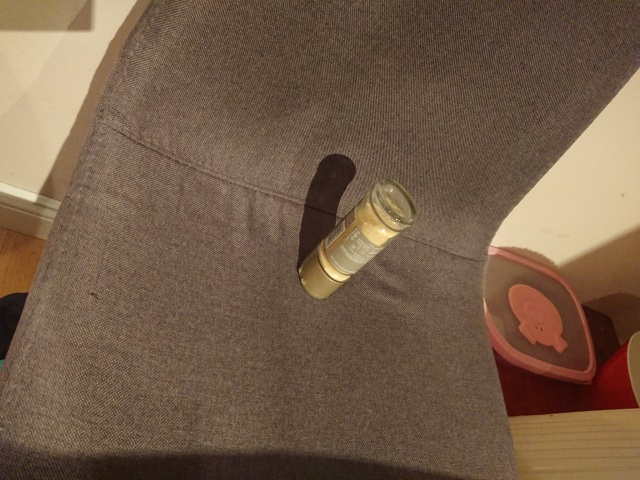Kotanyi Garlic Granules 70g: (295, 175, 421, 303)
